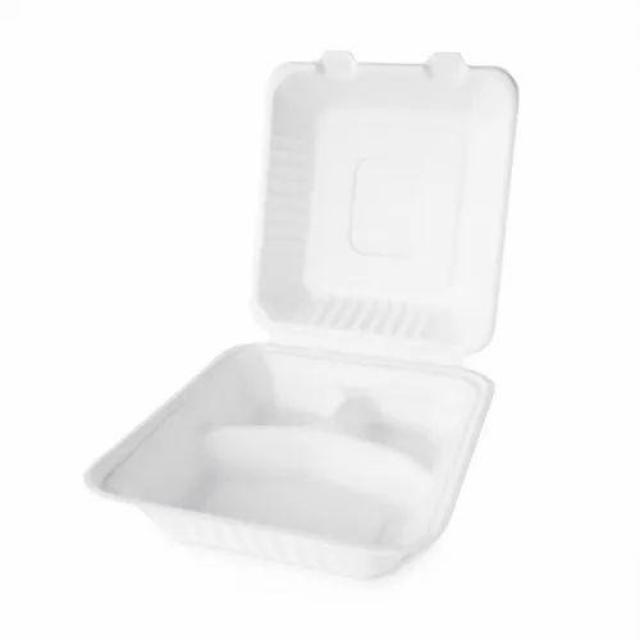styrofoam: (82, 46, 521, 581)
